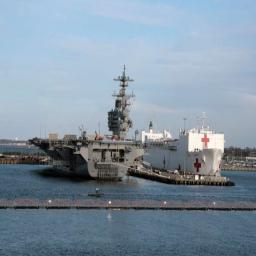Portanaves: (28, 63, 150, 184)
